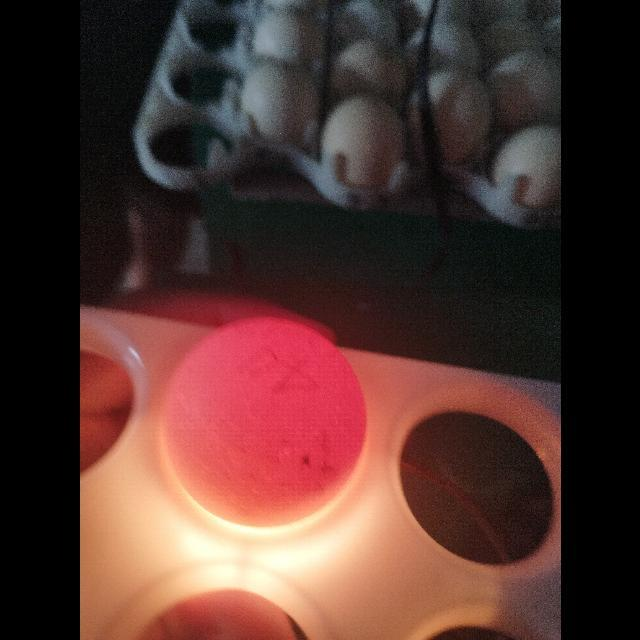Infertile: (156, 313, 372, 531)
